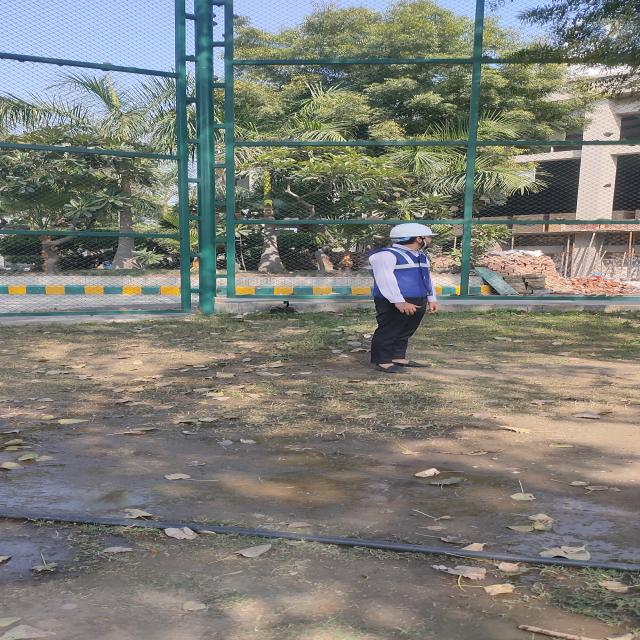safe: (368, 223, 438, 374)
